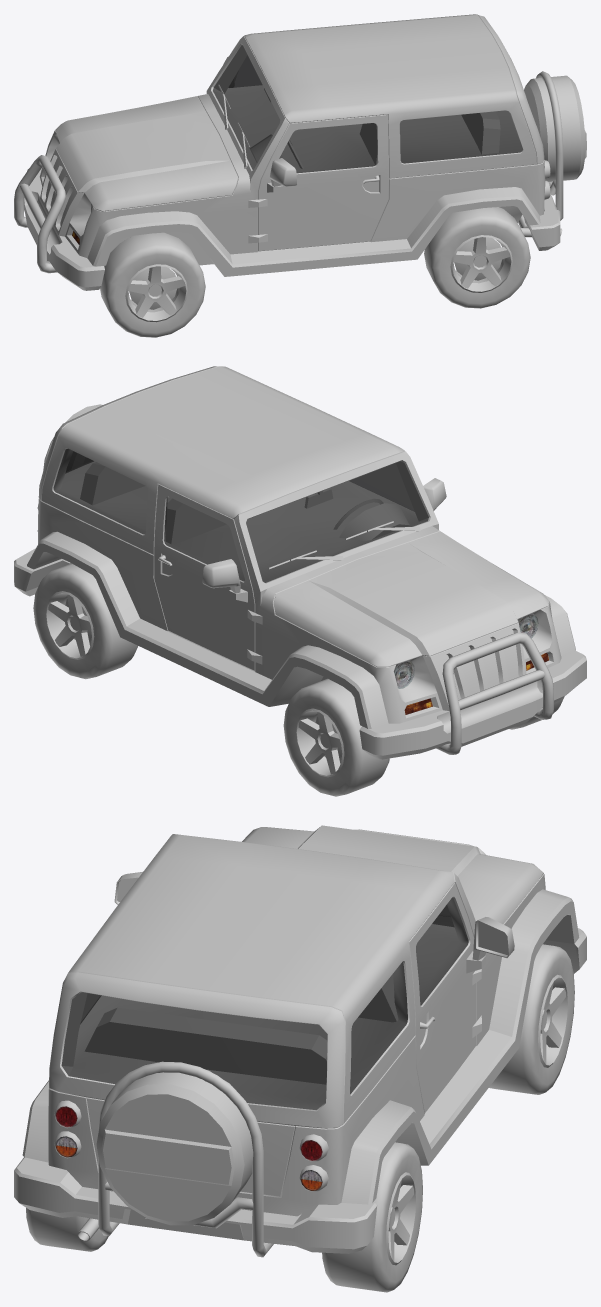
File: Jeep.FBX
3 views of the same model, one above another, from view 1: azimuth 30°, elevation 25°; view 2: azimuth 150°, elevation 25°; view 3: azimuth 270°, elevation 25° (orthographic). The views are drawn at different scales.
Parts seen in each view (by area): view 1: Offroad Body, Wheel_G, Wheel_G001; view 2: Offroad Body, Wheel_G001, Wheel_G002; view 3: Offroad Body, Wheel_G001 (×2), Wheel_G002.
Boxes of the visible parts, box(x1,y1,x2,y2) form: Offroad Body: box(14, 14, 586, 290); Wheel_G: box(100, 232, 205, 337); Wheel_G001: box(424, 207, 530, 308); Offroad Body: box(14, 366, 586, 759); Wheel_G001: box(283, 678, 389, 796); Wheel_G002: box(33, 563, 137, 679); Offroad Body: box(14, 825, 586, 1257); Wheel_G001 (×2): box(26, 944, 574, 1251); Wheel_G002: box(322, 1142, 422, 1292).
Size of the model in its own units: 176 by 69.54 by 120.
